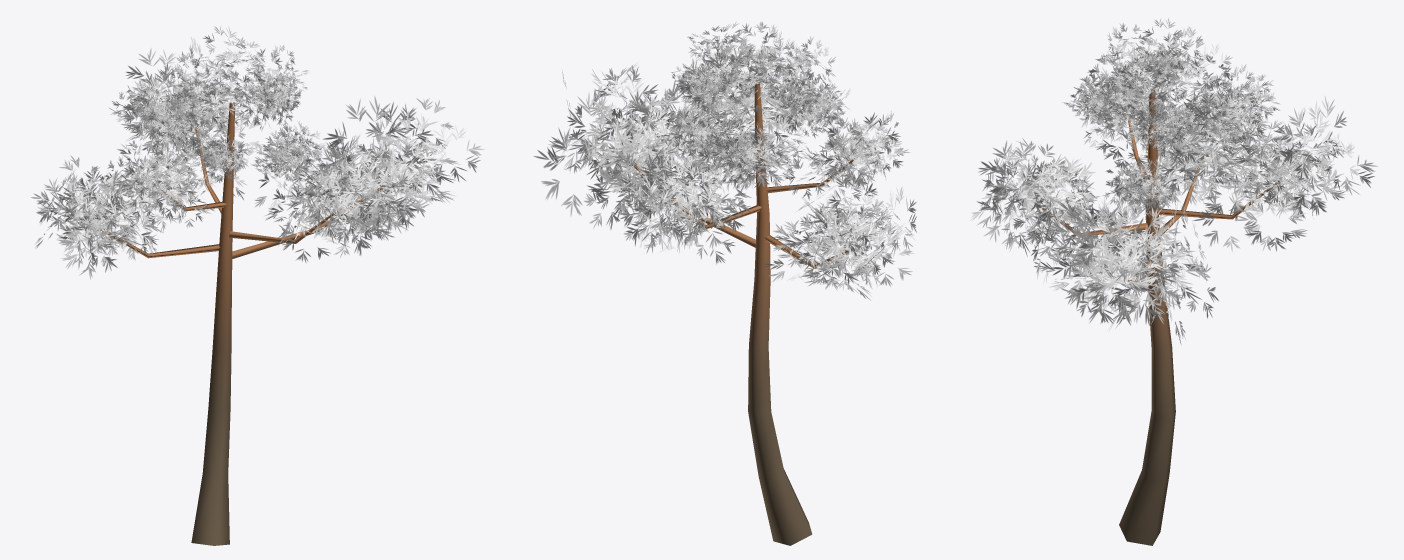
Rendered from full.glb.
3 renders of one model, left to right at view 1: azimuth 30°, elevation 25°; view 2: azimuth 150°, elevation 25°; view 3: azimuth 270°, elevation 25°, orthographic. The views are drawn at different scales.
Visible parts, largest first — view 1: crown, trunk; view 2: crown, trunk; view 3: crown, trunk.
Boxes of the visible parts, x1,y1,x2,y2 form: crown: (31,26,484,279); trunk: (100,102,384,545); crown: (533,22,916,299); trunk: (626,83,854,545); crown: (970,18,1377,344); trunk: (1035,90,1279,545).
Size of the model in its own units: 17.02 by 19.34 by 14.46.
2 materials, 1 textured.
